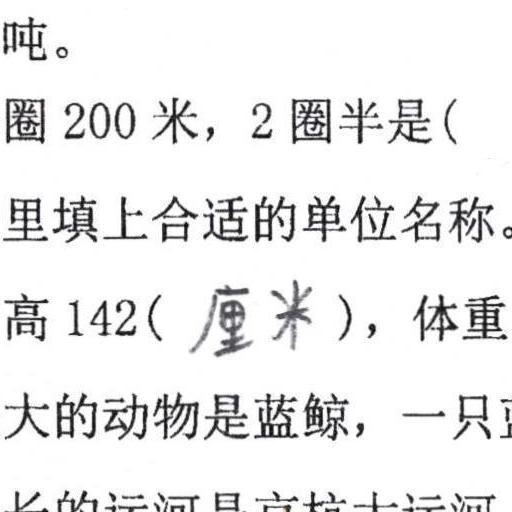ans: (189, 273, 314, 359)
